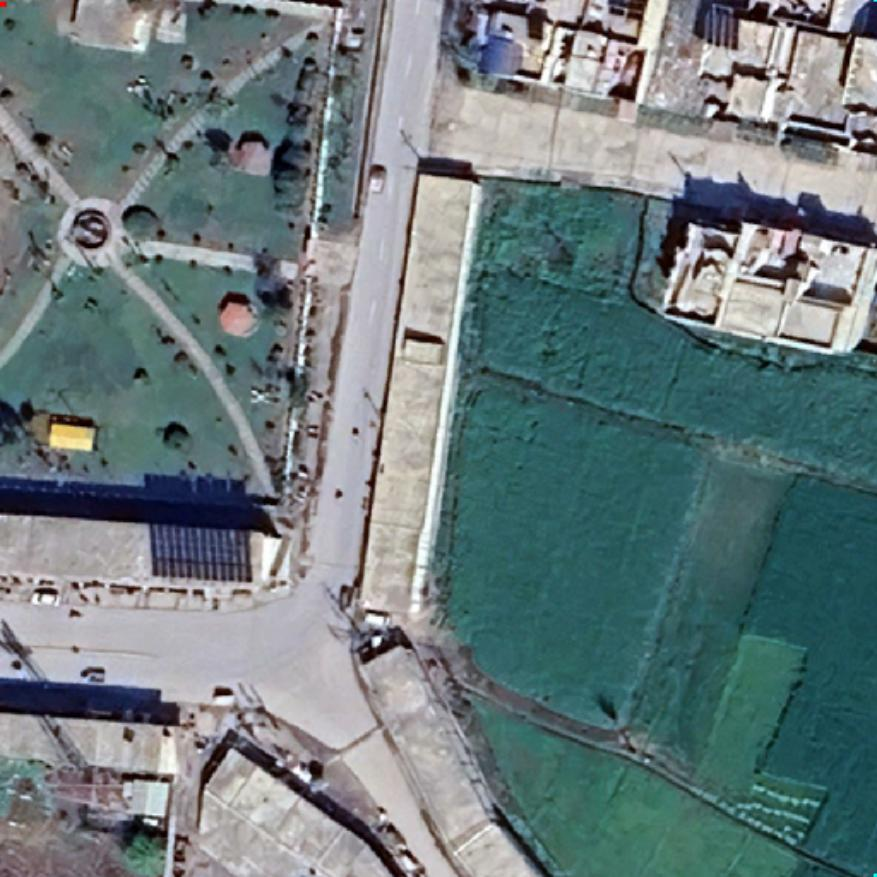Solarpanel: (141, 516, 259, 588), (700, 1, 743, 54)
